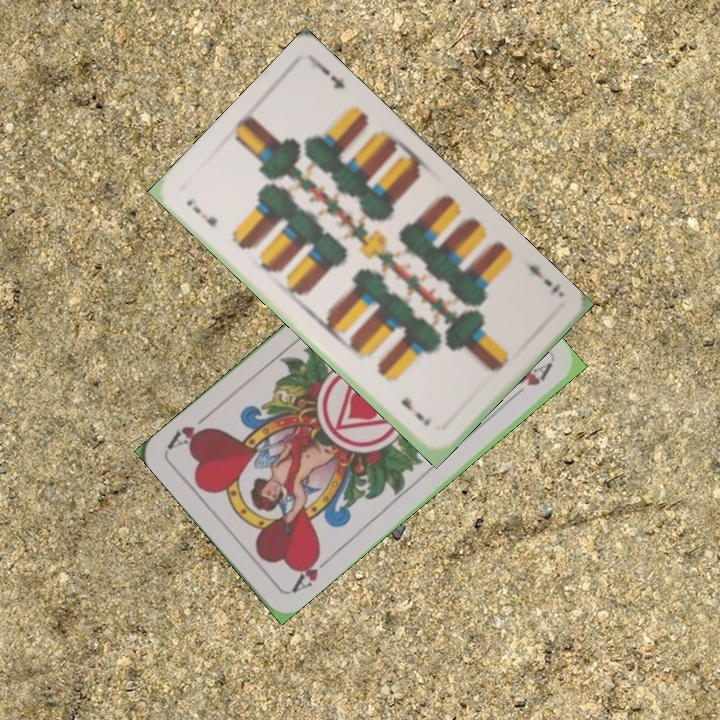E7: (518, 256, 563, 297), (182, 193, 220, 229)
HA: (287, 548, 335, 596)
